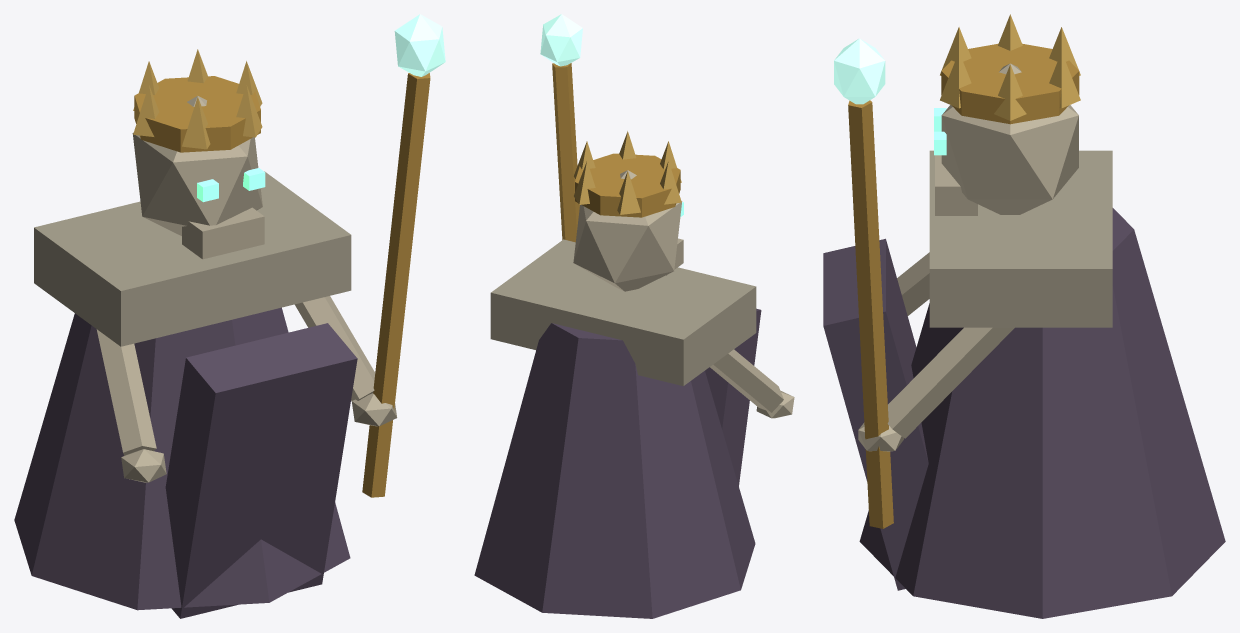
Rendered from lich.glb.
3 views of the same model, side by side, from view 1: azimuth 30°, elevation 25°; view 2: azimuth 150°, elevation 25°; view 3: azimuth 270°, elevation 25° (orthographic). The views are drawn at different scales.
Parts seen in each view (by area): view 1: kingly robe, robe front, ermine mantle, sceptre, crowned head, crown band, bony arm, bare jaw, sceptre gem, bony arm.001, bony hand, bony hand.001 (+3 smaller); view 2: kingly robe, ermine mantle, crowned head, crown band, sceptre, robe front, bony arm, sceptre gem, crown point.002, crown point.001, crown point.003, bony hand; view 3: kingly robe, ermine mantle, robe front, crowned head, sceptre, crown band, bony arm.001, sceptre gem, bare jaw, bony arm, crown point, crown point.005 (+2 smaller).
Boxes of the visible parts, <box> form: kingly robe: <box>14,307,350,610</box>; robe front: <box>165,323,357,618</box>; ermine mantle: <box>34,171,351,346</box>; sceptre: <box>362,73,430,497</box>; crowned head: <box>132,96,262,235</box>; crown band: <box>134,76,260,152</box>; bony arm: <box>96,329,156,455</box>; bare jaw: <box>182,207,264,259</box>; sceptre gem: <box>394,14,445,76</box>; bony arm.001: <box>294,296,375,400</box>; bony hand: <box>121,449,166,482</box>; bony hand.001: <box>351,393,397,426</box>; kingly robe: <box>474,323,755,618</box>; ermine mantle: <box>490,239,756,386</box>; crowned head: <box>573,170,682,291</box>; crown band: <box>575,153,680,217</box>; sceptre: <box>552,63,579,242</box>; robe front: <box>705,308,761,486</box>; bony arm: <box>710,349,783,412</box>; sceptre gem: <box>540,14,582,66</box>; crown point.002: <box>617,171,640,214</box>; crown point.001: <box>574,161,595,204</box>; crown point.003: <box>660,161,681,204</box>; bony hand: <box>756,391,794,418</box>; kingly robe: <box>859,208,1225,618</box>; ermine mantle: <box>929,150,1112,327</box>; robe front: <box>823,238,928,590</box>; crowned head: <box>941,63,1078,214</box>; sceptre: <box>848,100,893,528</box>; crown band: <box>941,43,1079,124</box>; bony arm.001: <box>887,327,1014,438</box>; sceptre gem: <box>834,38,885,104</box>; bare jaw: <box>935,155,977,215</box>; bony arm: <box>897,252,929,315</box>; crown point: <box>994,64,1026,120</box>; crown point.005: <box>940,52,971,108</box>.
Size of the model in its own units: 0.365 by 0.6081 by 0.3737.
